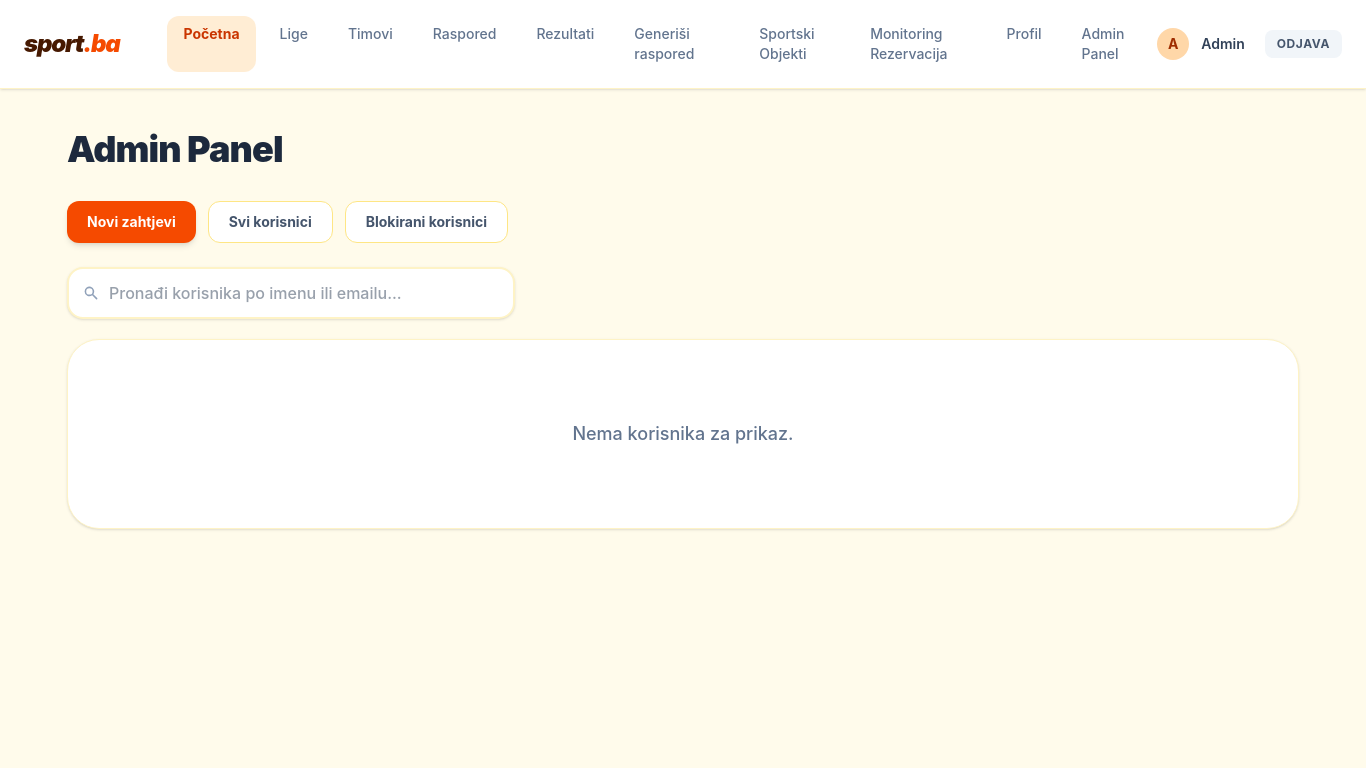
Test case: AdminKorisnici UI › prikazuje blokirane korisnike na Blokirani tabu
What coordinates should you click on to do the following:
click the button "Blokirani korisnici"
I would click on:
 (426, 222)
Its box is 345,201 -> 508,243.
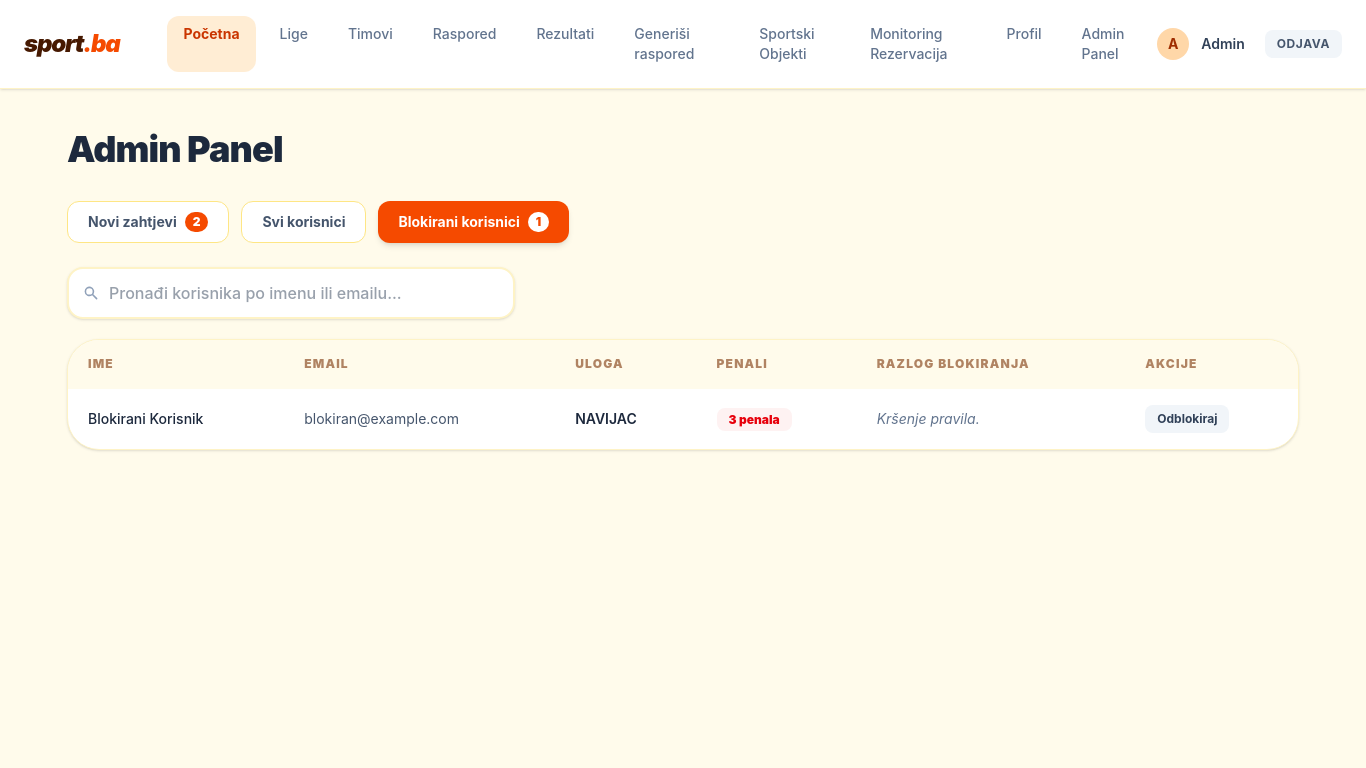
Expected: the button "Blokirani Korisnik" is shown, 88,409 -> 203,429
Expected: the text "Kršenje pravila." is shown, 877,410 -> 980,427
